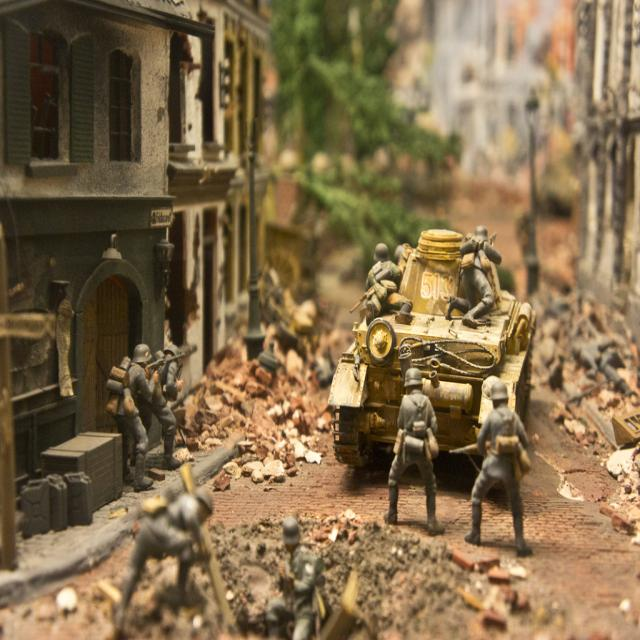tank: (326, 228, 538, 468)
